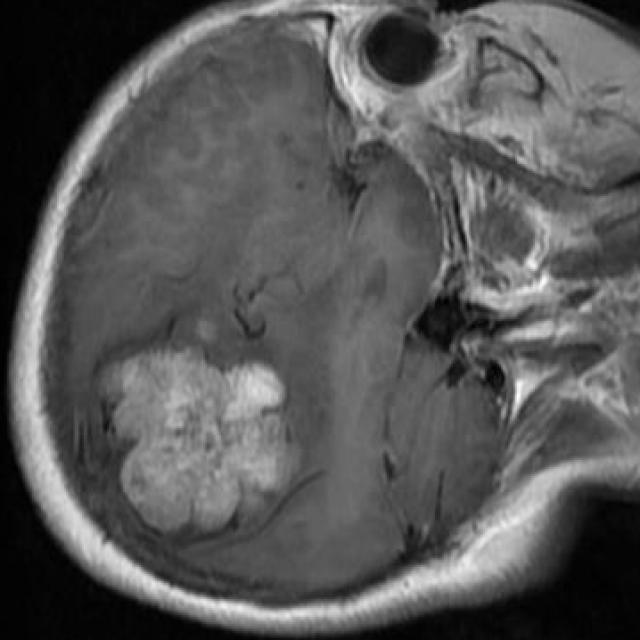meningioma: (102, 351, 287, 533)
